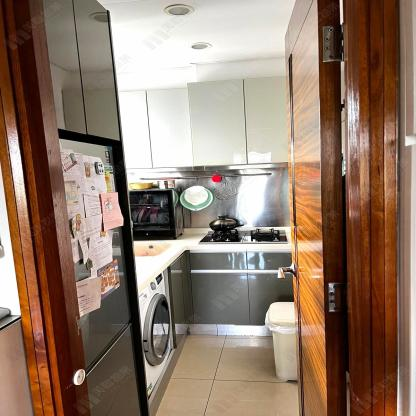Cupboard: (187, 75, 288, 170)
Dish Washer: (129, 187, 184, 241)
Fridge: (58, 133, 147, 416)
Stove: (191, 228, 292, 252)
Washing Machine: (138, 271, 176, 406)
